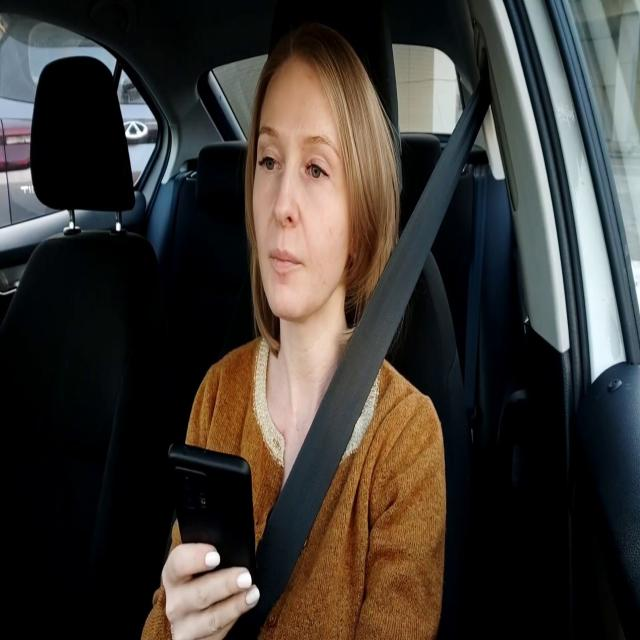phone: (168, 440, 262, 636)
